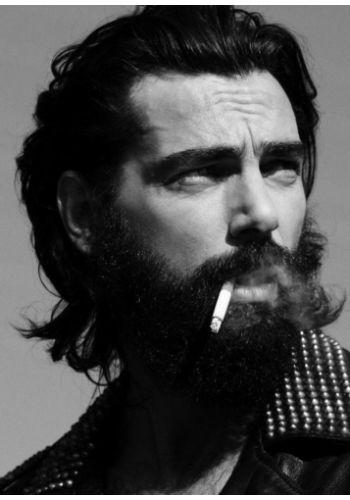cigarette: (210, 275, 237, 334)
